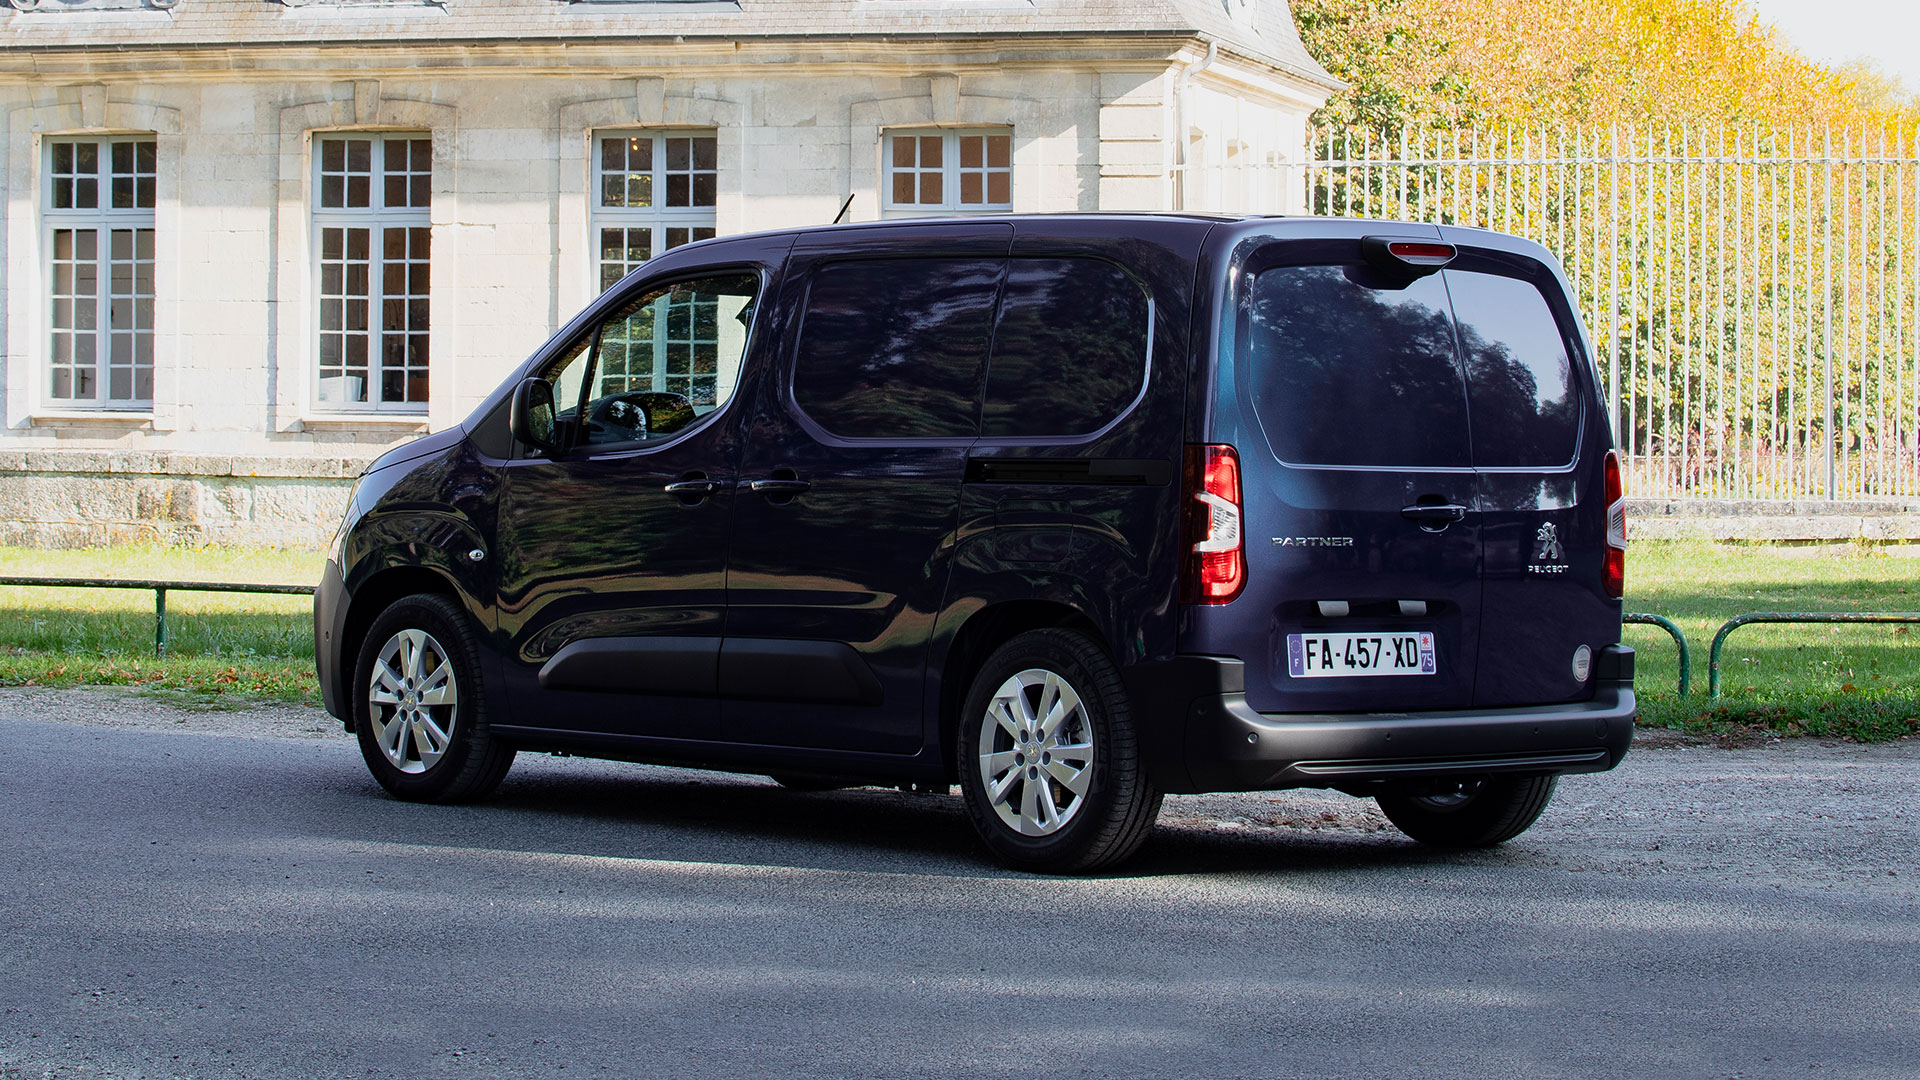tablica: (1282, 630, 1439, 678)
